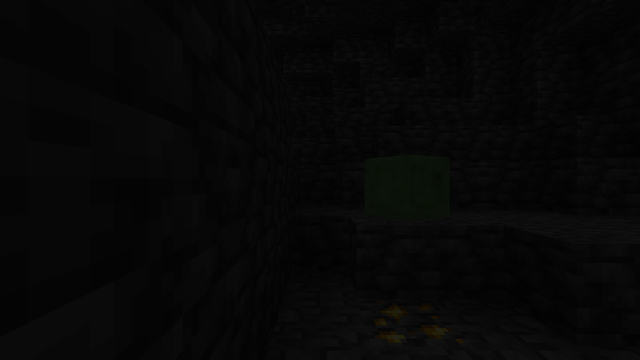slimes: (370, 152, 450, 219)
